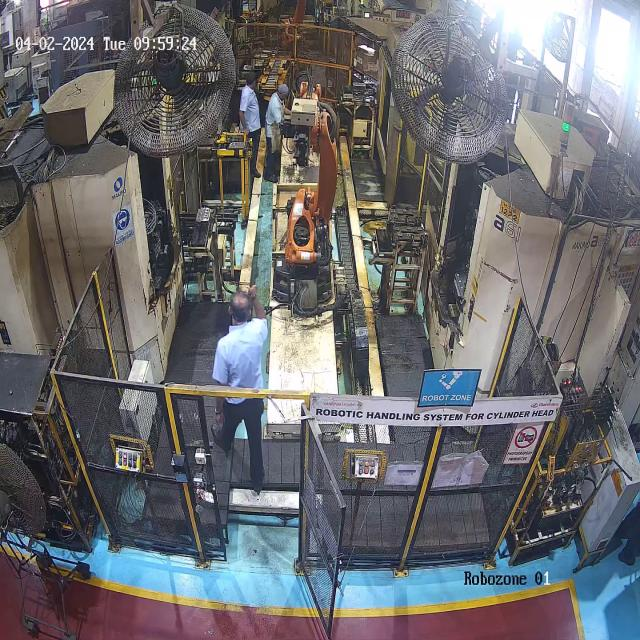person: (204, 290, 270, 498), (262, 82, 290, 185), (237, 70, 262, 182)
